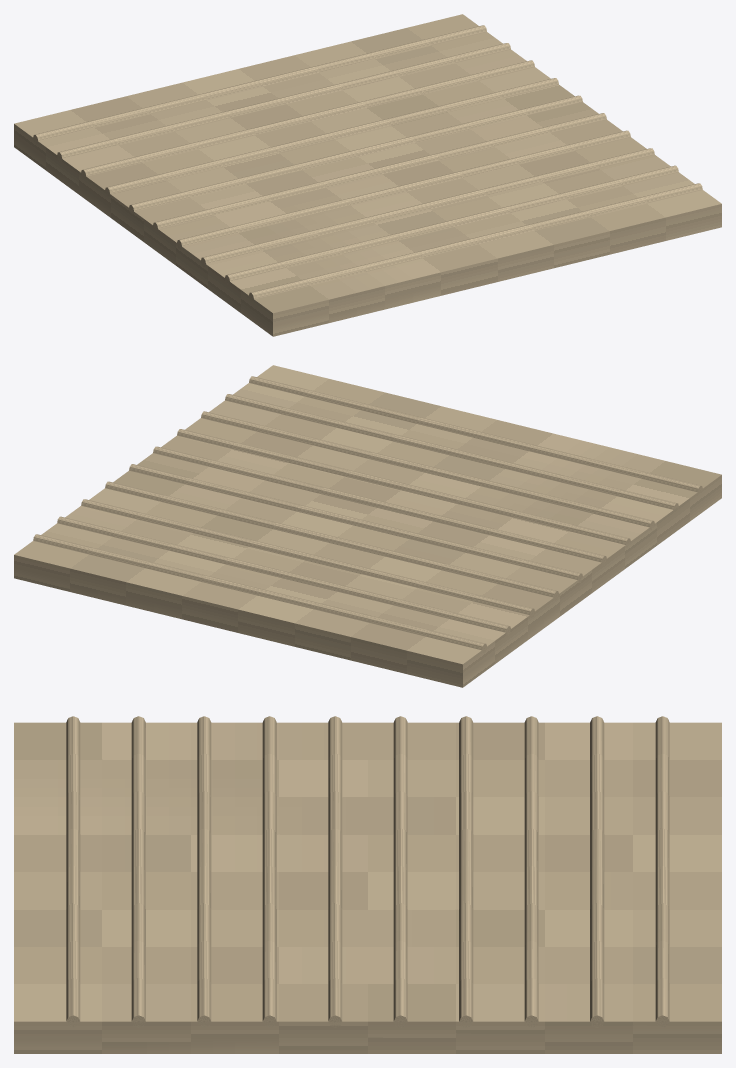
Rendered from cave-and-crystal-networks-sand-floor-tile-b0a24dd1.glb.
3 views of the same model, one above another, from view 1: azimuth 30°, elevation 25°; view 2: azimuth 150°, elevation 25°; view 3: azimuth 270°, elevation 25° (orthographic). The views are drawn at different scales.
Parts seen in each view (by area): view 1: sand-floor-tile; view 2: sand-floor-tile; view 3: sand-floor-tile.
Boxes of the visible parts, x1,y1,x2,y2 form: sand-floor-tile: (14, 14, 721, 336); sand-floor-tile: (14, 365, 721, 687); sand-floor-tile: (14, 716, 721, 1053).
Bounding box in the file's own units: 4 × 0.2401 × 4.
1 material, 1 textured.
